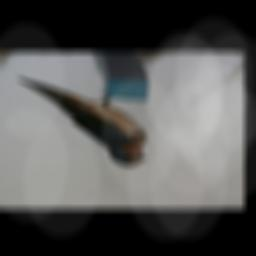Swallow: (15, 76, 151, 168)
